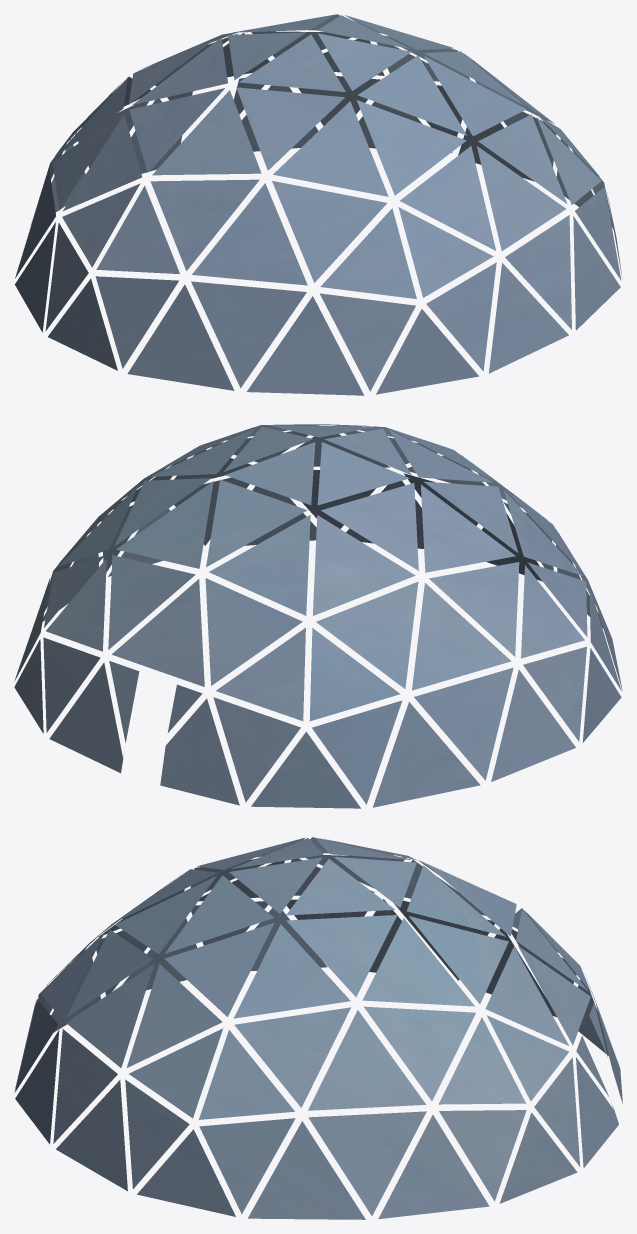
The model's file is DomoCristal.obj.
3 views of the same model, one above another, from view 1: azimuth 30°, elevation 25°; view 2: azimuth 150°, elevation 25°; view 3: azimuth 270°, elevation 25° (orthographic).
Parts seen in each view (by area): view 1: DomoCristal:polySurface36; view 2: DomoCristal:polySurface36; view 3: DomoCristal:polySurface36.
Part boxes in pixels (<box>): DomoCristal:polySurface36: <box>15,14,622,395</box>; DomoCristal:polySurface36: <box>14,424,622,808</box>; DomoCristal:polySurface36: <box>14,837,622,1219</box>.
Size of the model in its own units: 22.26 by 9.87 by 22.24.
2 materials, 1 textured.
